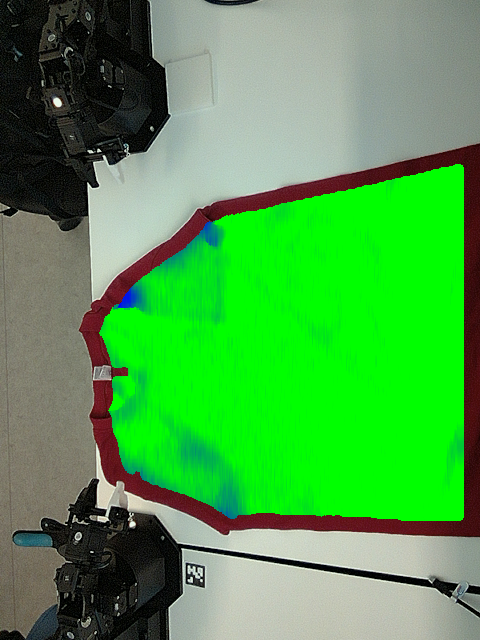V: (187, 287, 244, 330)
